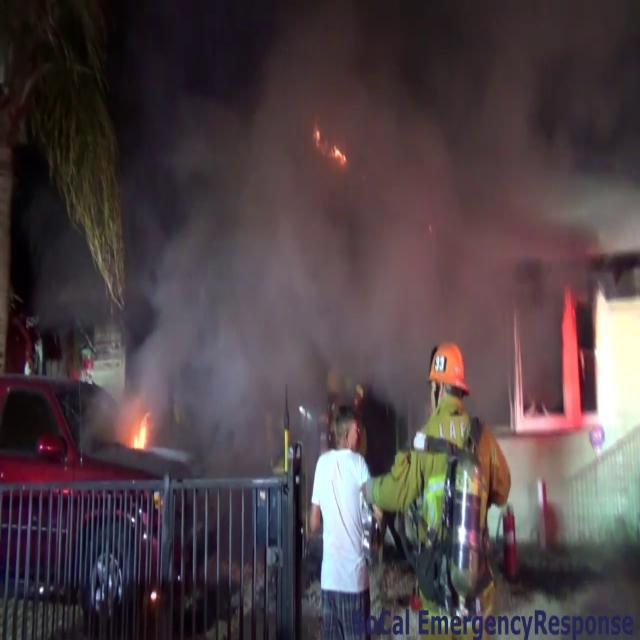Fire: (125, 404, 152, 459)
Smoke: (105, 0, 639, 378)
